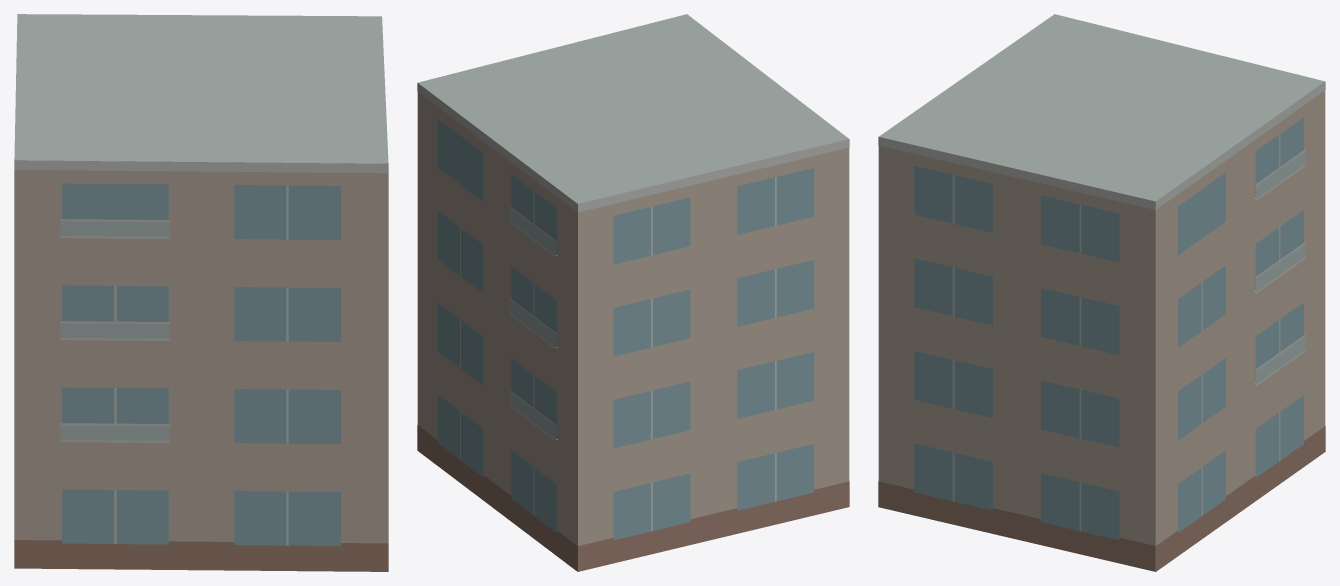
The model's file is survey-upis-32974966.glb.
3 views of the same model, side by side, from view 1: azimuth 30°, elevation 25°; view 2: azimuth 150°, elevation 25°; view 3: azimuth 270°, elevation 25° (orthographic). The views are drawn at different scales.
Parts seen in each view (by area): view 1: survey-upis-32974966.tmp; view 2: survey-upis-32974966.tmp; view 3: survey-upis-32974966.tmp.
Part boxes in pixels (box(x1,y1,x2,y2)): survey-upis-32974966.tmp: box(14, 14, 388, 571); survey-upis-32974966.tmp: box(417, 14, 849, 571); survey-upis-32974966.tmp: box(878, 14, 1325, 571).
Bounding box in the file's own units: 11.41 × 10.5 × 11.49.
